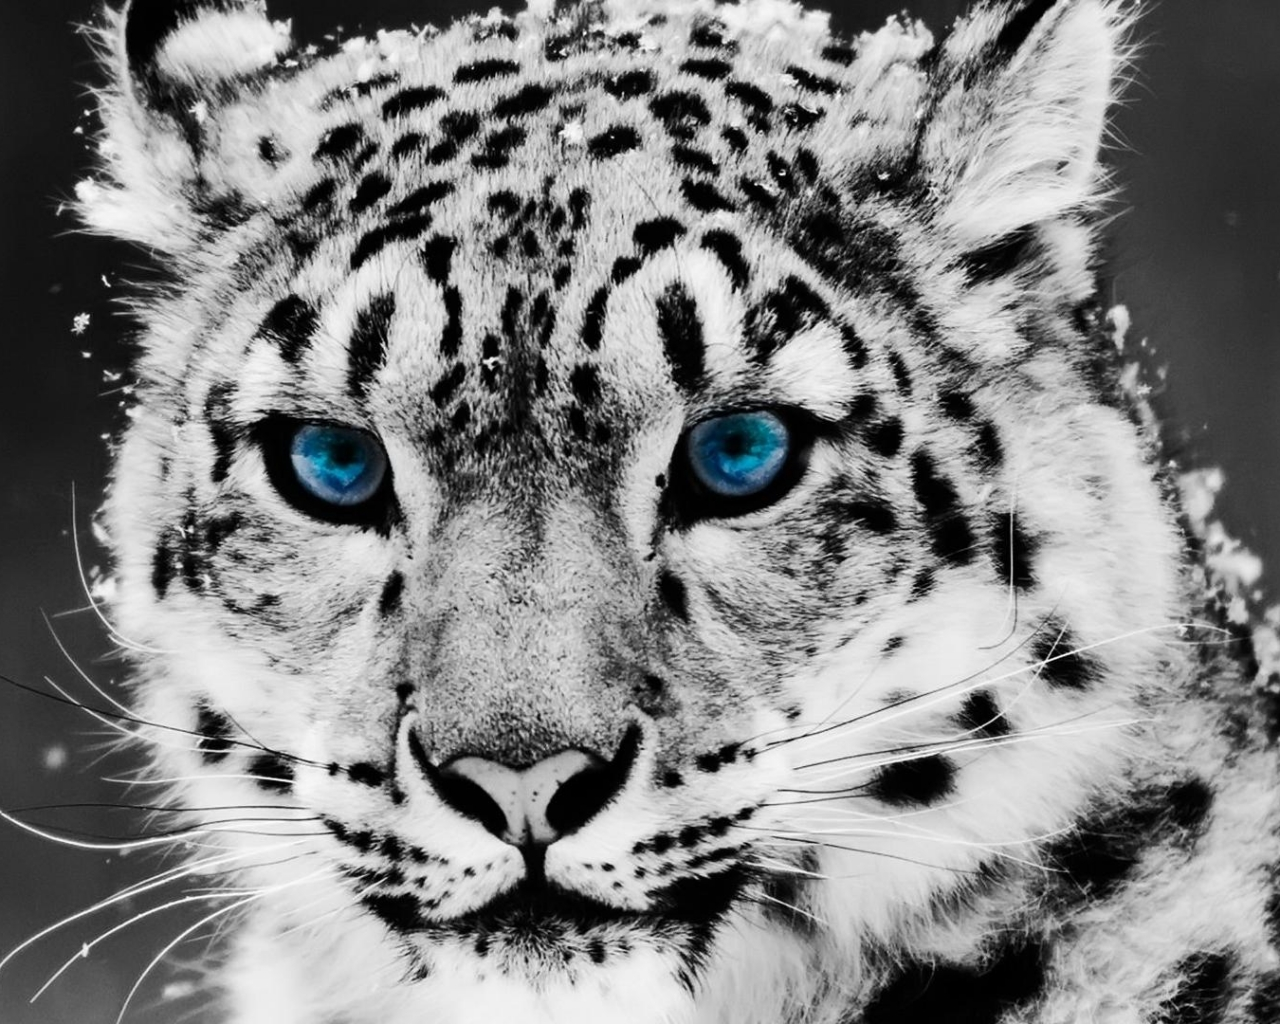Tigrew: (55, 39, 1203, 975)
